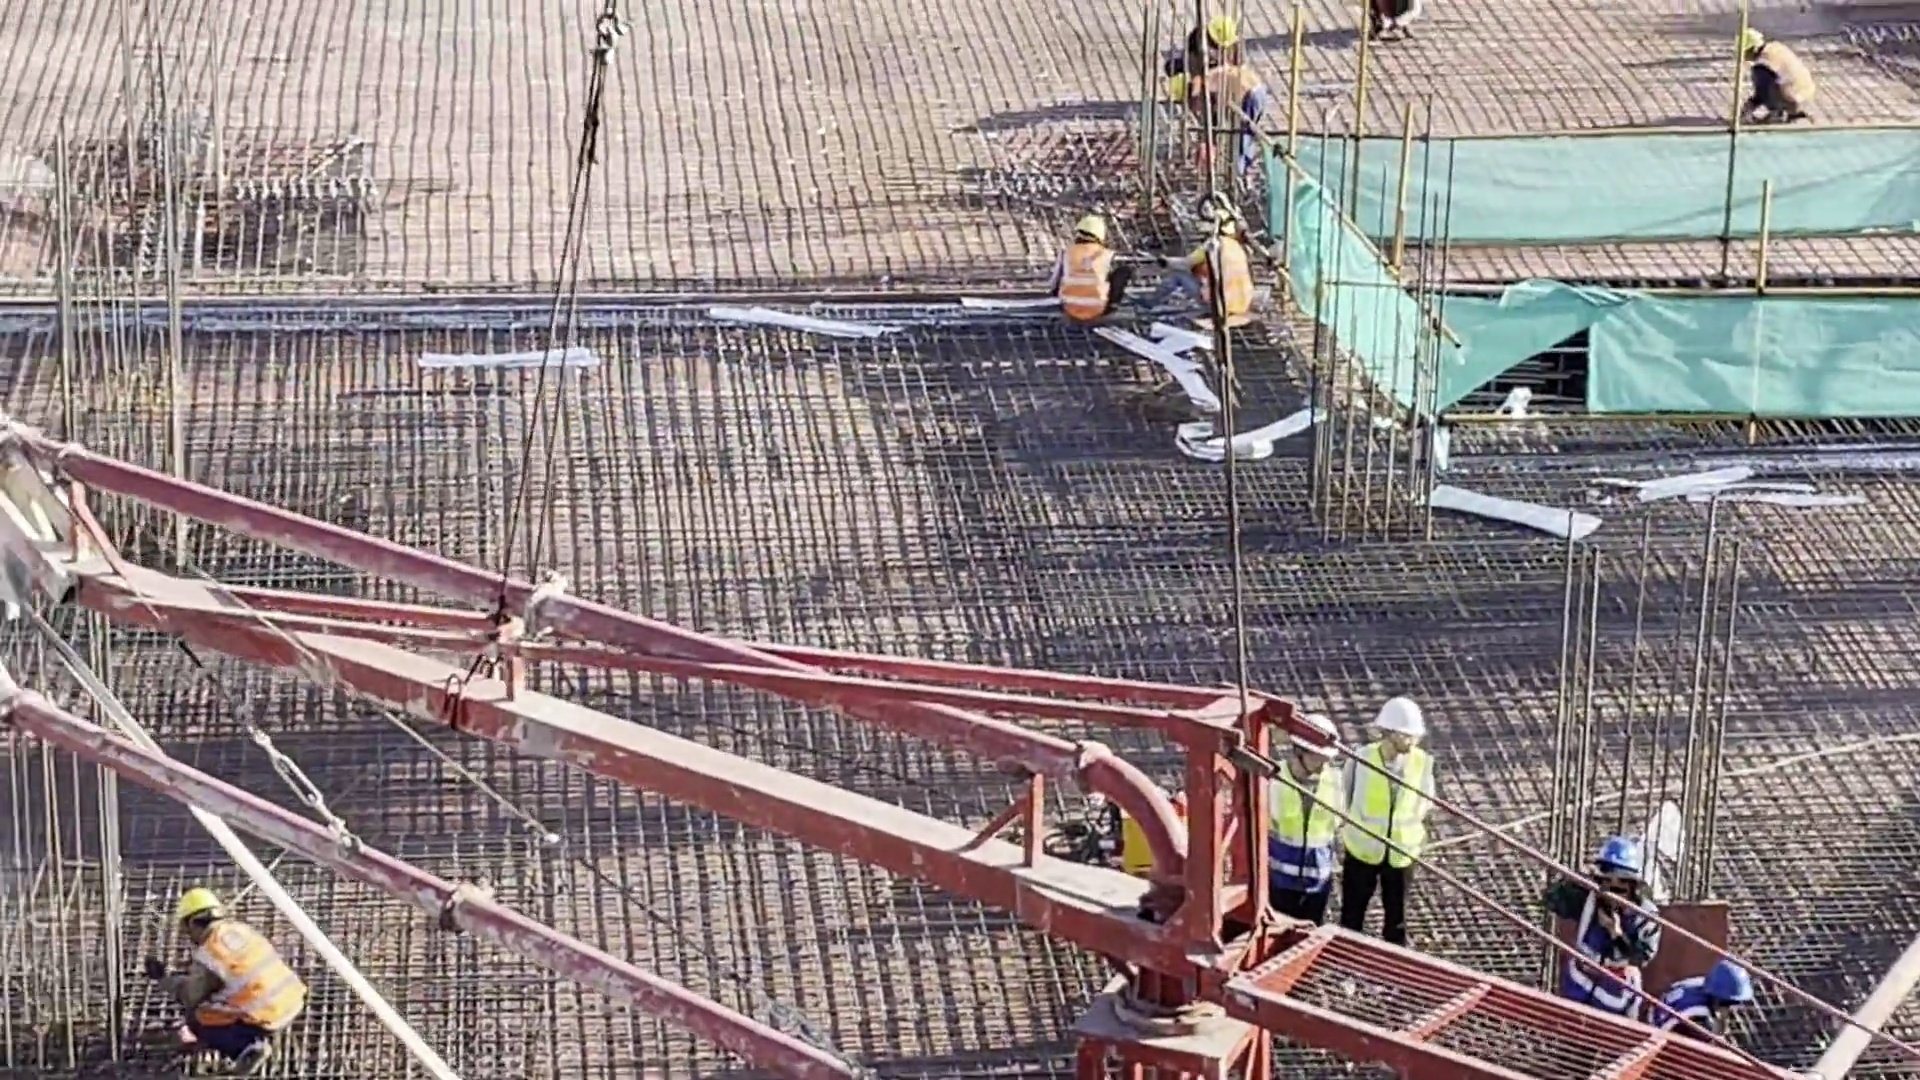helmet: (1382, 700, 1443, 749), (1594, 830, 1647, 880), (171, 888, 234, 930), (1275, 721, 1340, 760), (1198, 210, 1250, 244), (1704, 967, 1747, 1002), (1202, 23, 1239, 48), (1733, 30, 1766, 58), (1081, 214, 1113, 240), (1163, 77, 1185, 102)
person: (131, 881, 314, 1078), (1323, 687, 1437, 957), (1522, 815, 1648, 1016), (1240, 701, 1344, 939), (1143, 64, 1269, 209), (1138, 195, 1253, 341), (1632, 957, 1758, 1072), (1708, 26, 1828, 132), (1047, 205, 1132, 339), (1169, 23, 1248, 75), (1352, 1, 1433, 42)
vest: (181, 934, 322, 1036), (1353, 740, 1433, 877), (1268, 760, 1348, 877), (1573, 909, 1645, 999), (1199, 245, 1262, 342), (1189, 74, 1271, 130), (1062, 245, 1107, 325), (1656, 981, 1714, 1038), (1759, 51, 1807, 114)
